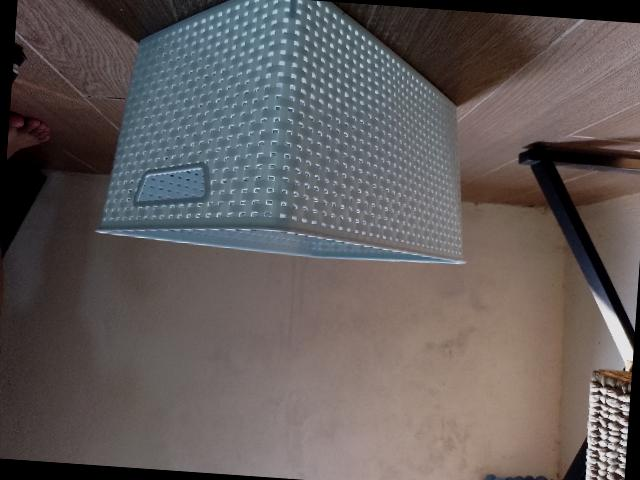cart: (91, 0, 467, 262)
